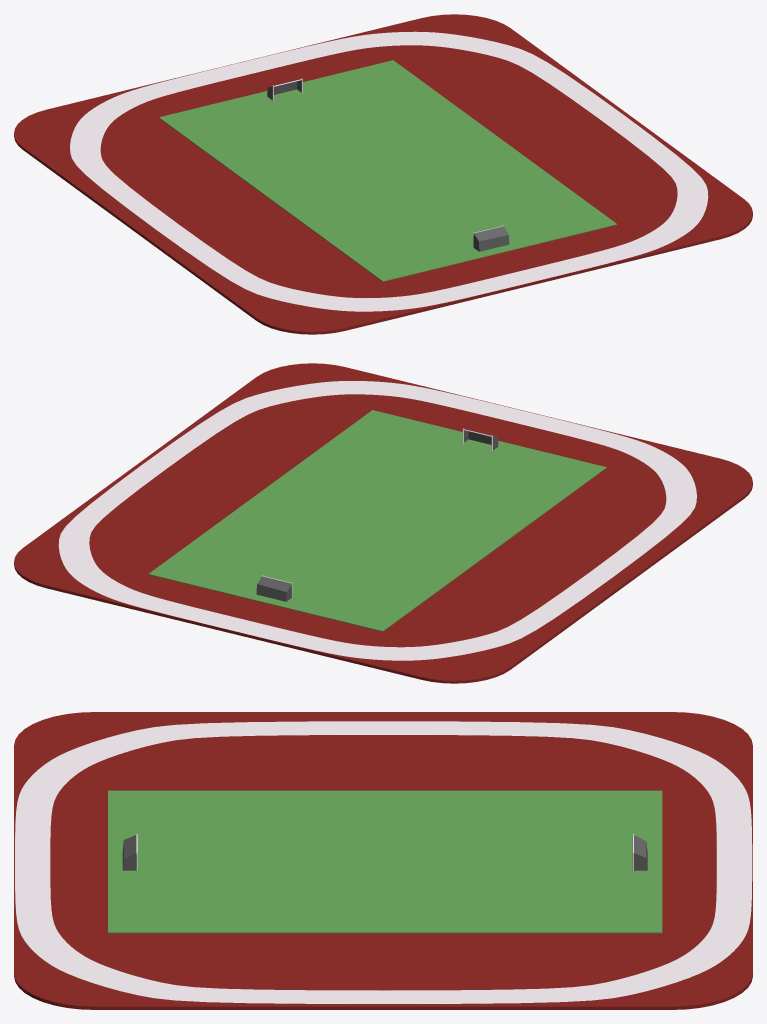
The model's file is Lapangan Bola.fbx.
The picture shows the model from 3 angles, top to bottom: view 1: azimuth 30°, elevation 25°; view 2: azimuth 150°, elevation 25°; view 3: azimuth 270°, elevation 25°; orthographic projection. The views are drawn at different scales.
Parts seen in each view (by area): view 1: Lap. Bola, Lap. Bola.009, Track lari, Lap. Bola.005; view 2: Lap. Bola, Lap. Bola.009, Track lari, Lap. Bola.001; view 3: Lap. Bola, Lap. Bola.009, Track lari.
Boxes of the visible parts, x1,y1,x2,y2 form: Lap. Bola: [14, 14, 752, 334]; Lap. Bola.009: [159, 60, 617, 281]; Track lari: [70, 31, 708, 311]; Lap. Bola.005: [473, 226, 509, 251]; Lap. Bola: [14, 363, 752, 683]; Lap. Bola.009: [148, 410, 606, 631]; Track lari: [58, 381, 696, 660]; Lap. Bola.001: [256, 576, 291, 601]; Lap. Bola: [14, 712, 752, 1009]; Lap. Bola.009: [108, 790, 662, 933]; Track lari: [15, 721, 752, 1003].
Size of the model in its own units: 6234 by 223 by 6610.
